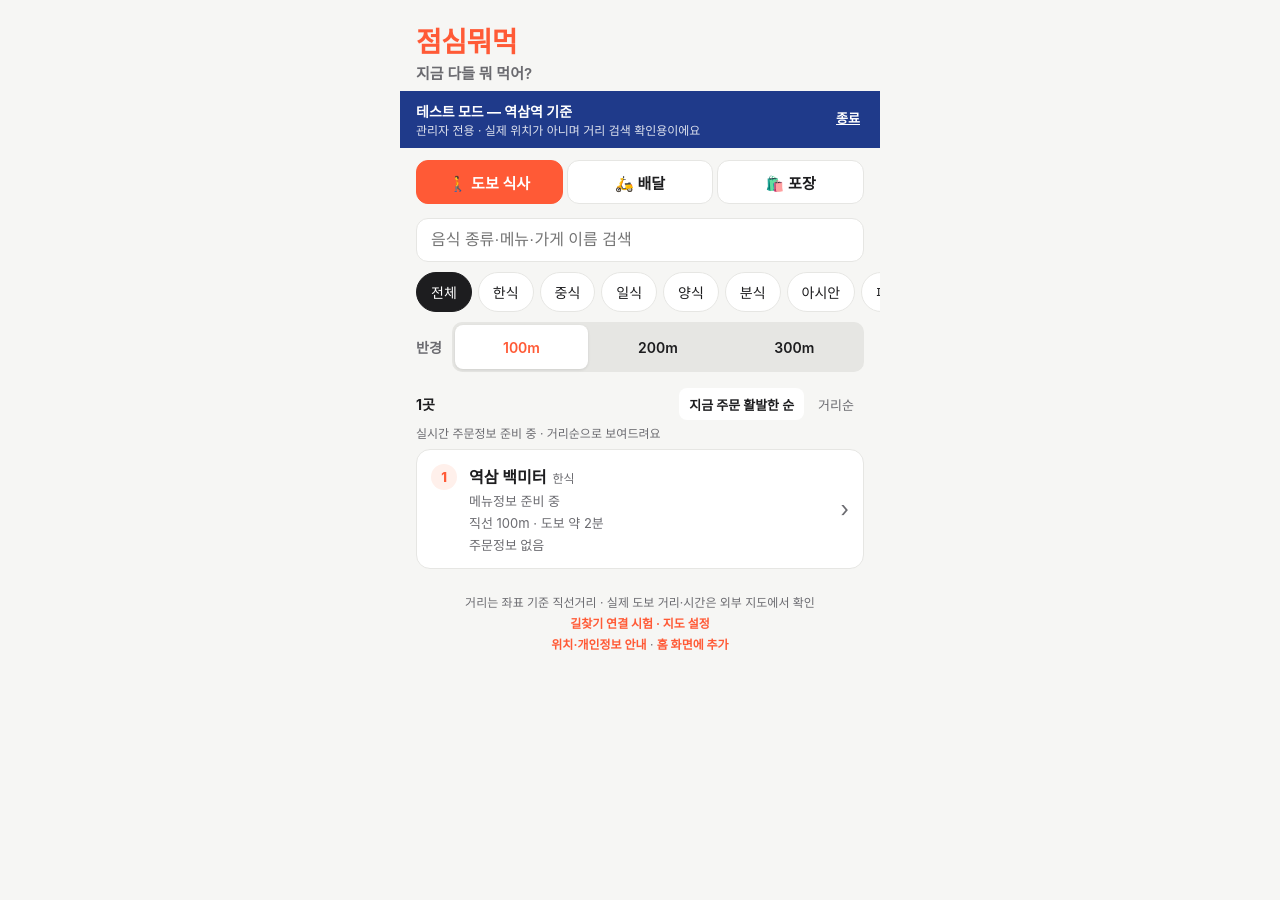
Test: 관리자 테스트 위치 — 소비자 화면 › 테스트 위치를 길찾기 출발지로 쓰지 않는다 (GPS 없으면 출발지 선택 안내)
Click the button "1 역삼 백미터 한식 메뉴정보 준비 중 직선 100m · 도보 약 2분 주문정보 없음 ›". click: coordinates (508, 477)
box: [417, 450, 863, 568]
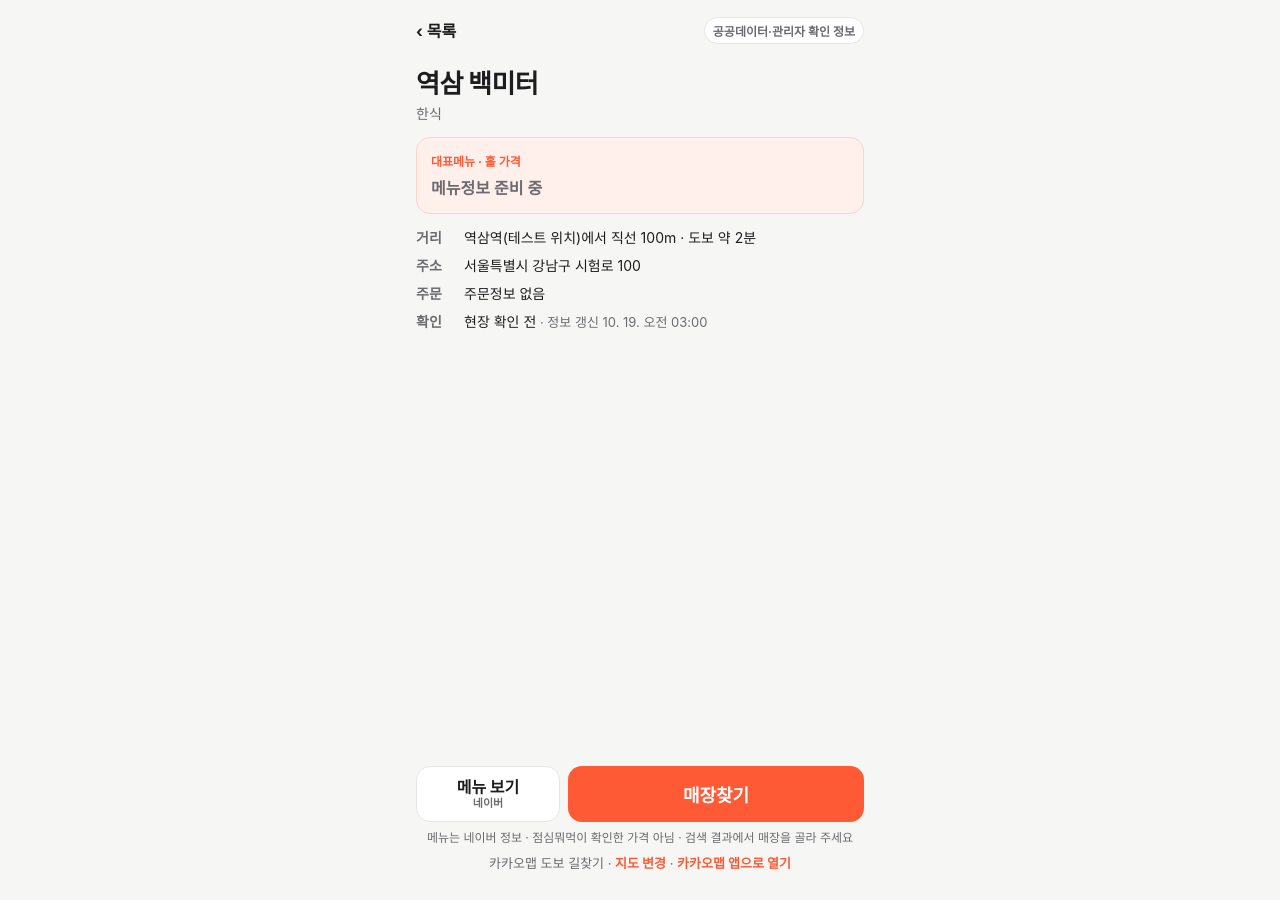
Expected: the dialog named "상세정보" shows "역삼역(테스트 위치)에서 직선 100m"
Click the button "매장찾기". click: coordinates (716, 794)
box: [568, 766, 864, 822]
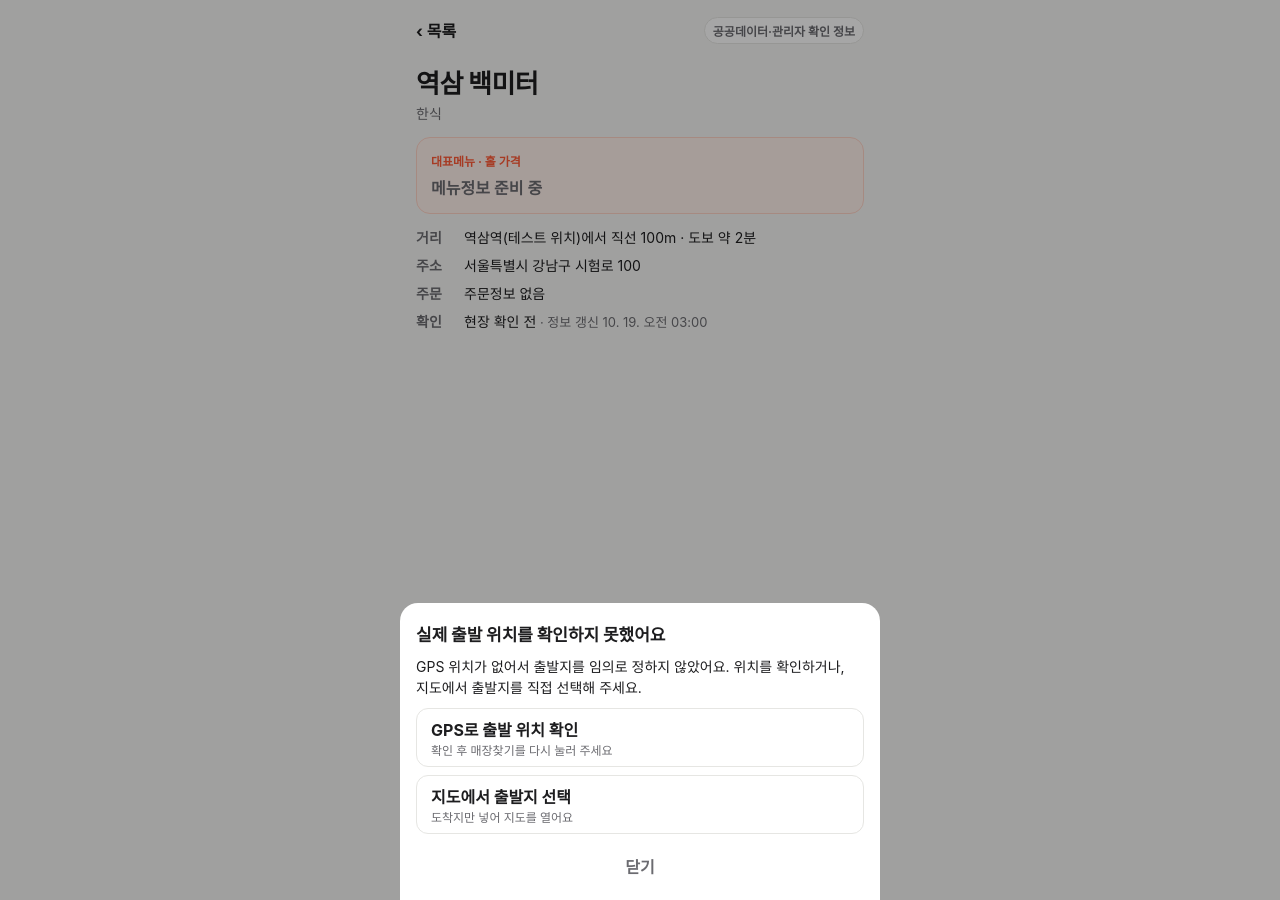
Expected: the dialog "실제 출발 위치를 확인하지 못했어요" is shown, [400, 603, 880, 899]
